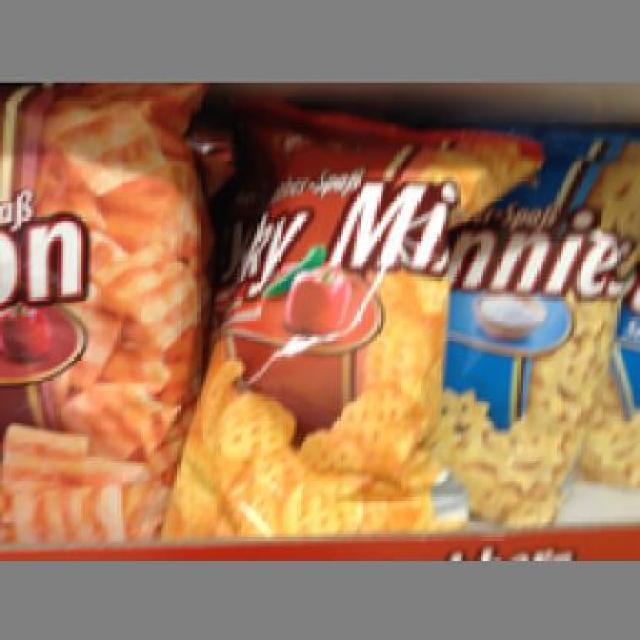Chips: (177, 97, 472, 530), (0, 80, 200, 540), (437, 126, 637, 520)
